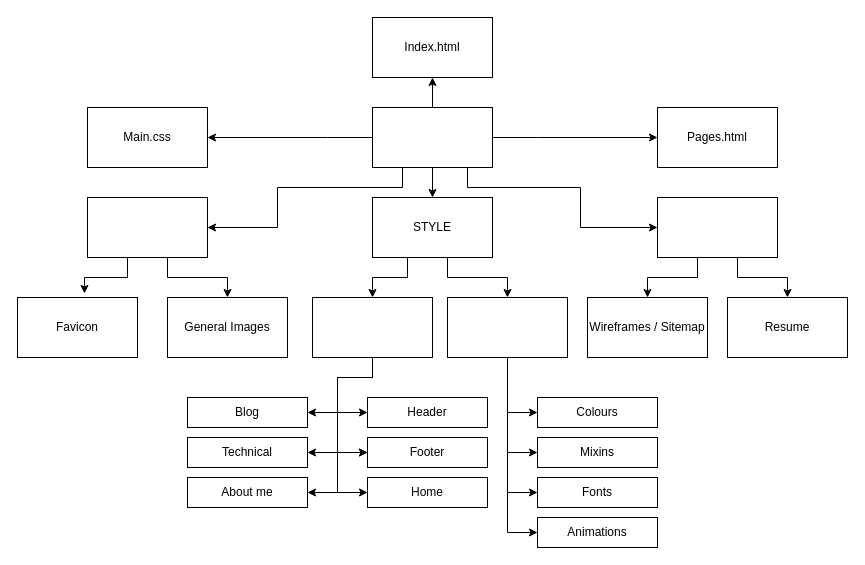
The diagram is 865 pixels wide and 565 high, and some of its shapes have lost their labels. The centre of each missing label's shape, as x and y in pixels:
"COMPONENTS" goes at point 507,327.
"DEFAULTS" goes at point 372,327.
"DOCS" goes at point 717,227.
"Images" goes at point 147,227.
"SRC" goes at point 432,137.
